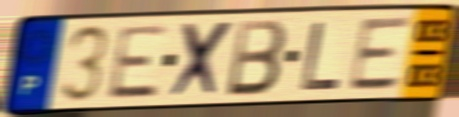3: (58, 22, 111, 106)
B: (224, 17, 289, 99)
E: (345, 14, 416, 94), (104, 22, 171, 102)
L: (298, 19, 345, 93)
X: (168, 19, 237, 102)
